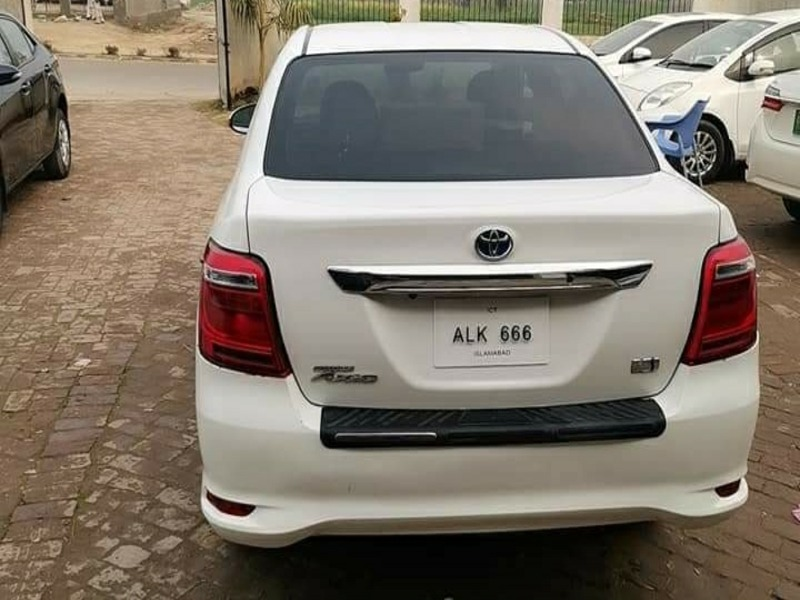License Plate: (429, 295, 553, 372)
